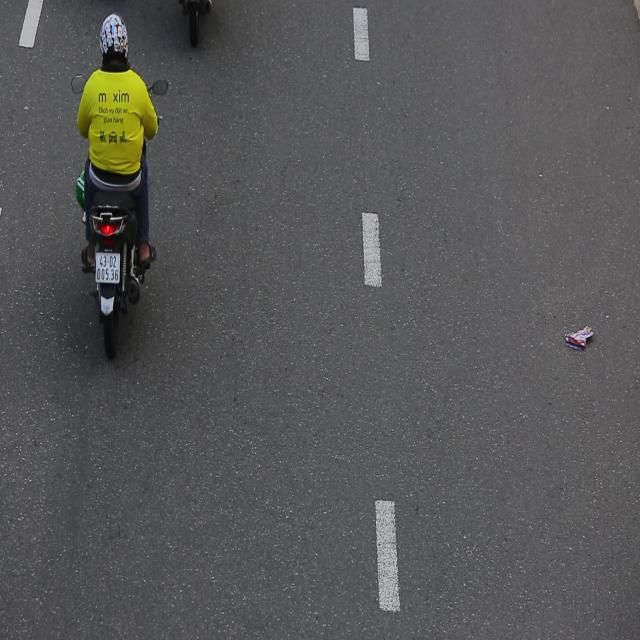motorbike: (67, 2, 170, 371)
